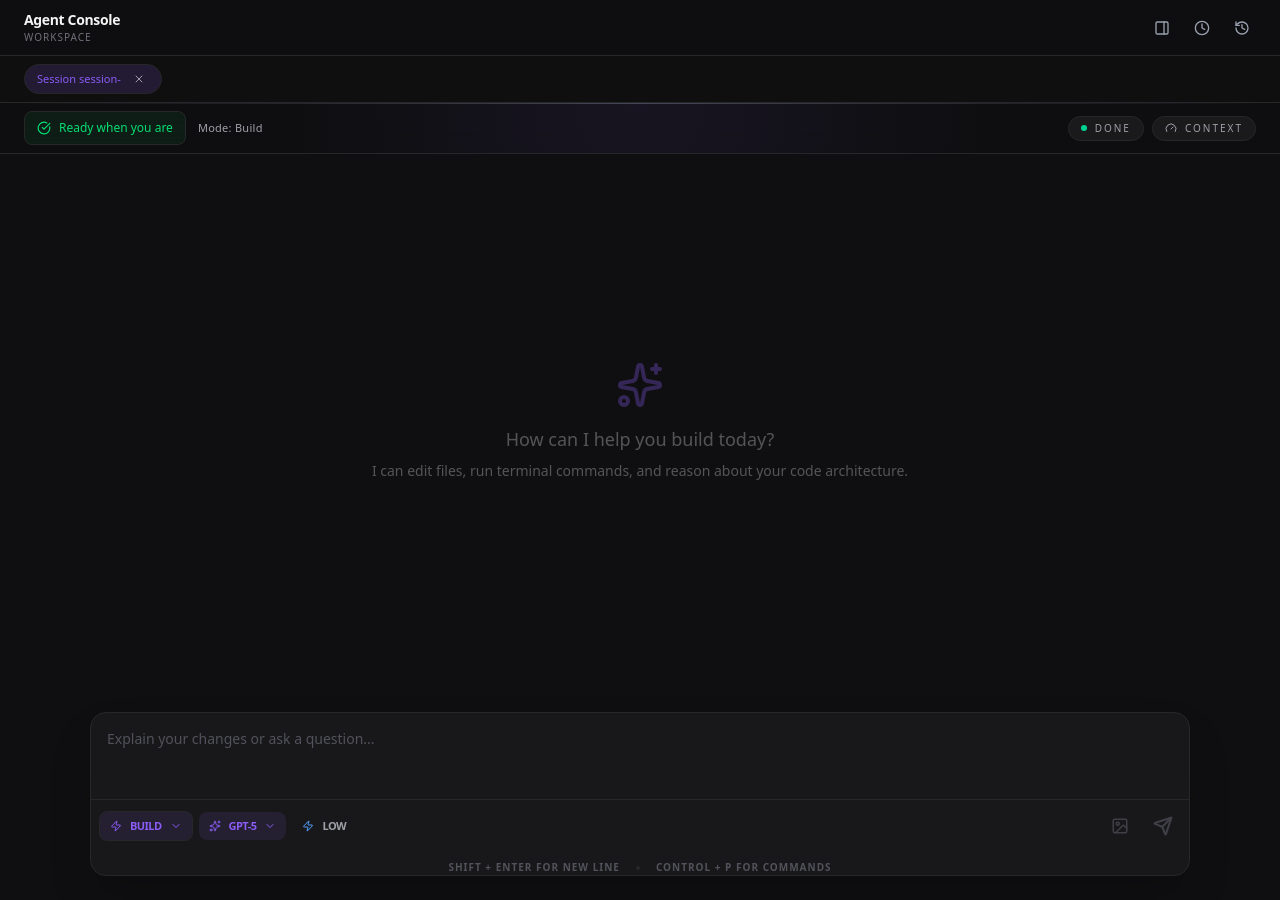
it: Chat slash commands › handles /share and /unshare commands
Type "/share " into the text box with placeholder "Explain your changes or ask a question...".
click(640, 749); type("/share ")  # box [91,713,1189,785]
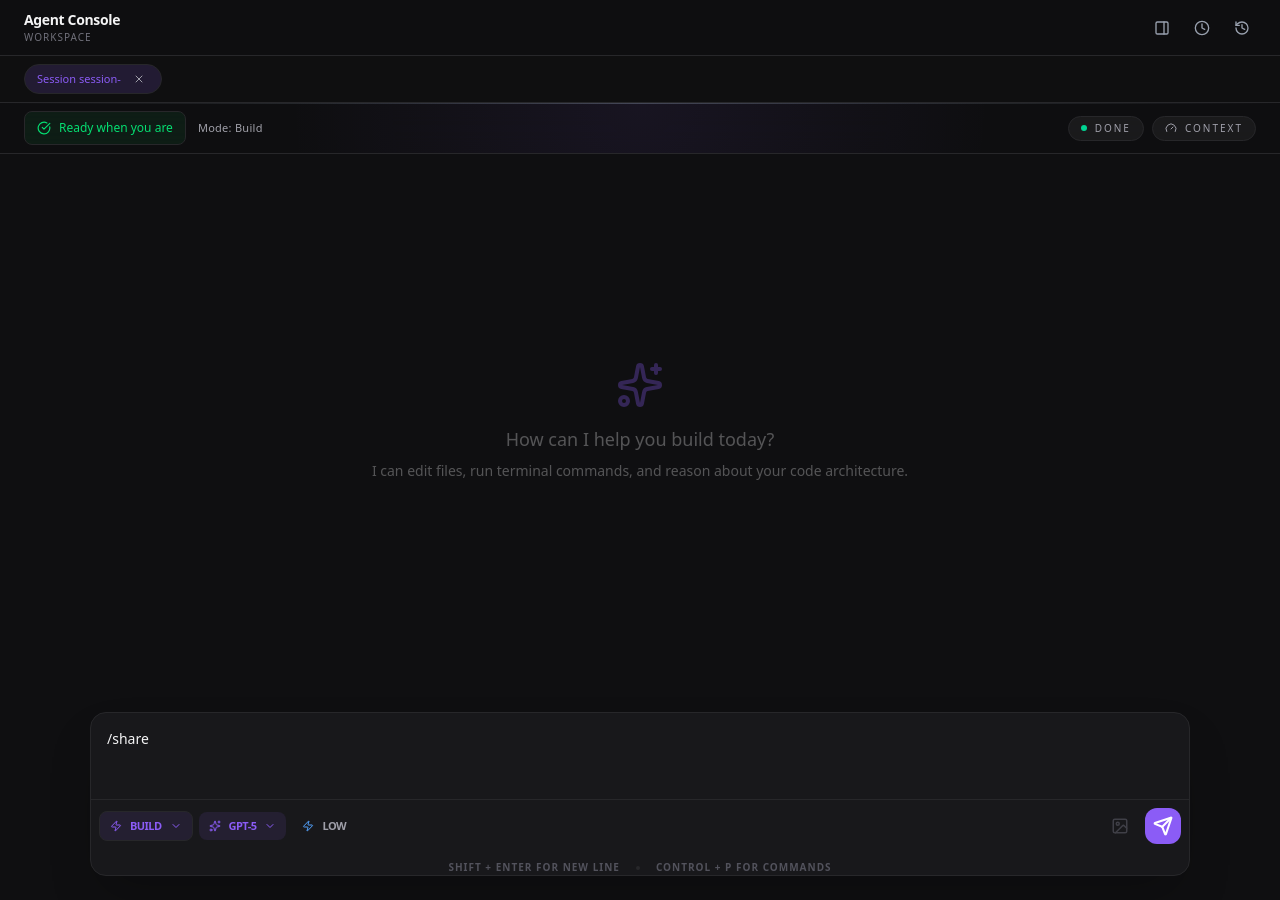
Press Enter in the text box with placeholder "Explain your changes or ask a question...", box [91,713,1189,785]
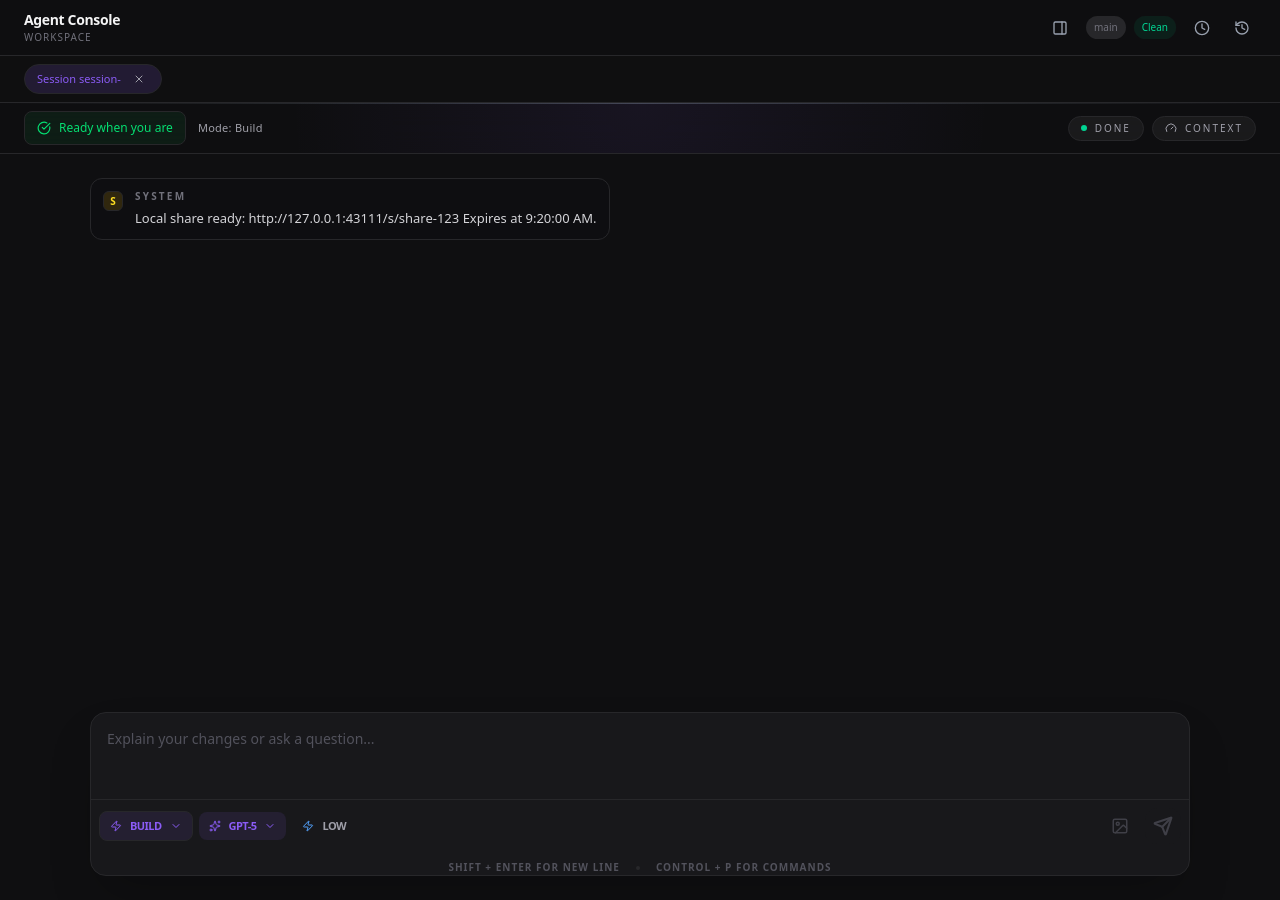
Type "/unshare " into the text box with placeholder "Explain your changes or ask a question...".
click(640, 749); type("/unshare ")  # box [91,713,1189,785]
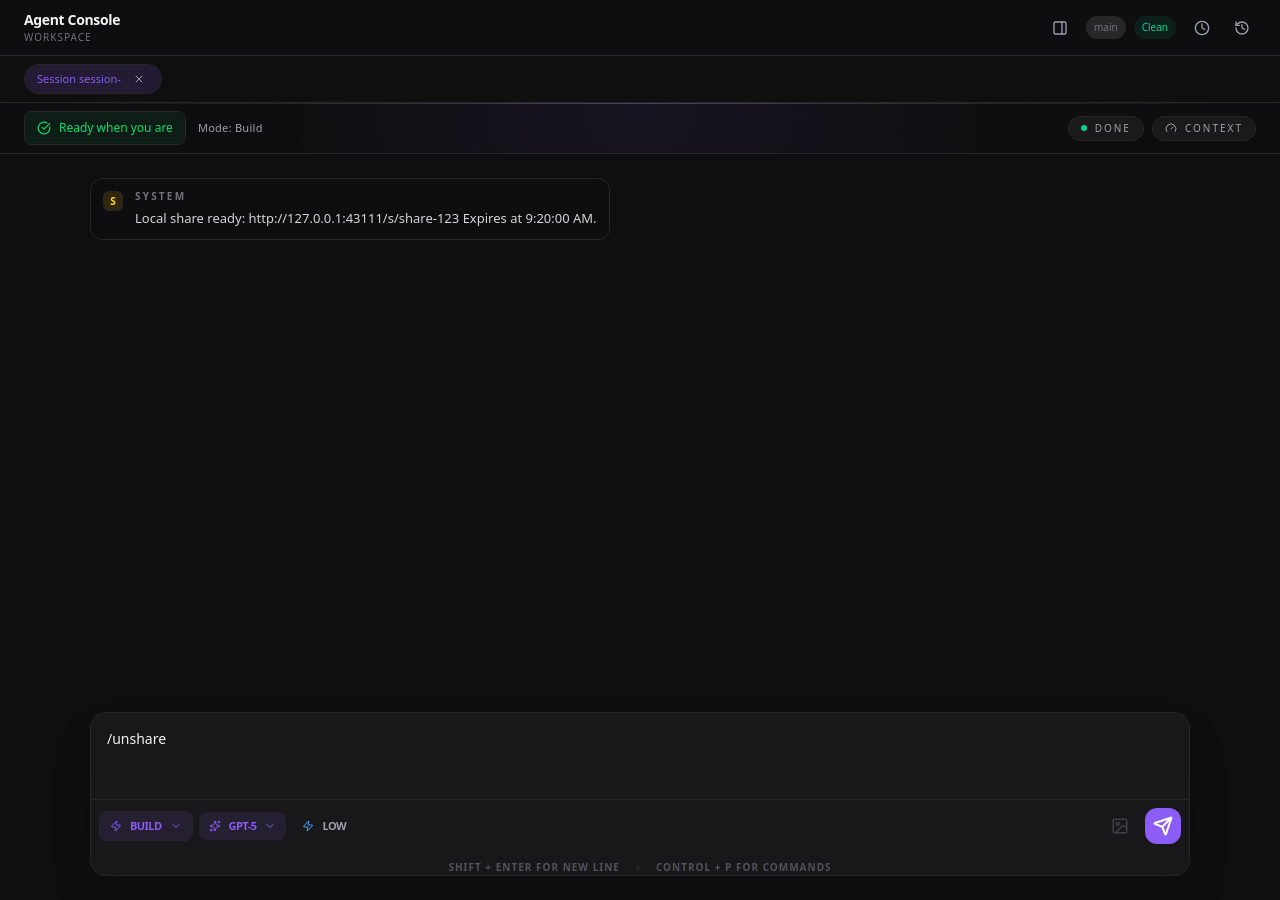
Press Enter in the text box with placeholder "Explain your changes or ask a question...", box [91,713,1189,785]
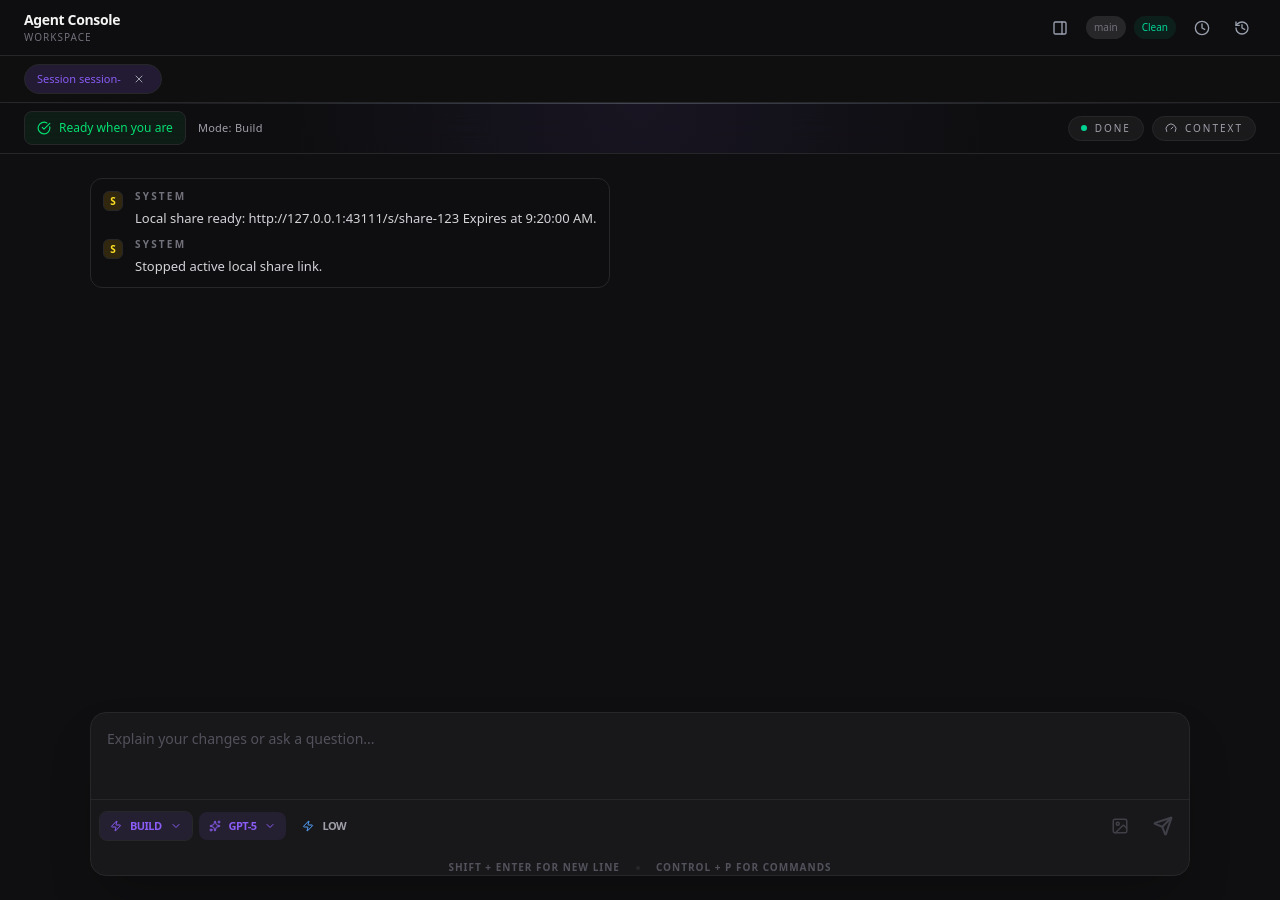
Check: the text "Stopped active local share link." is shown, box [135,257,322,275]
